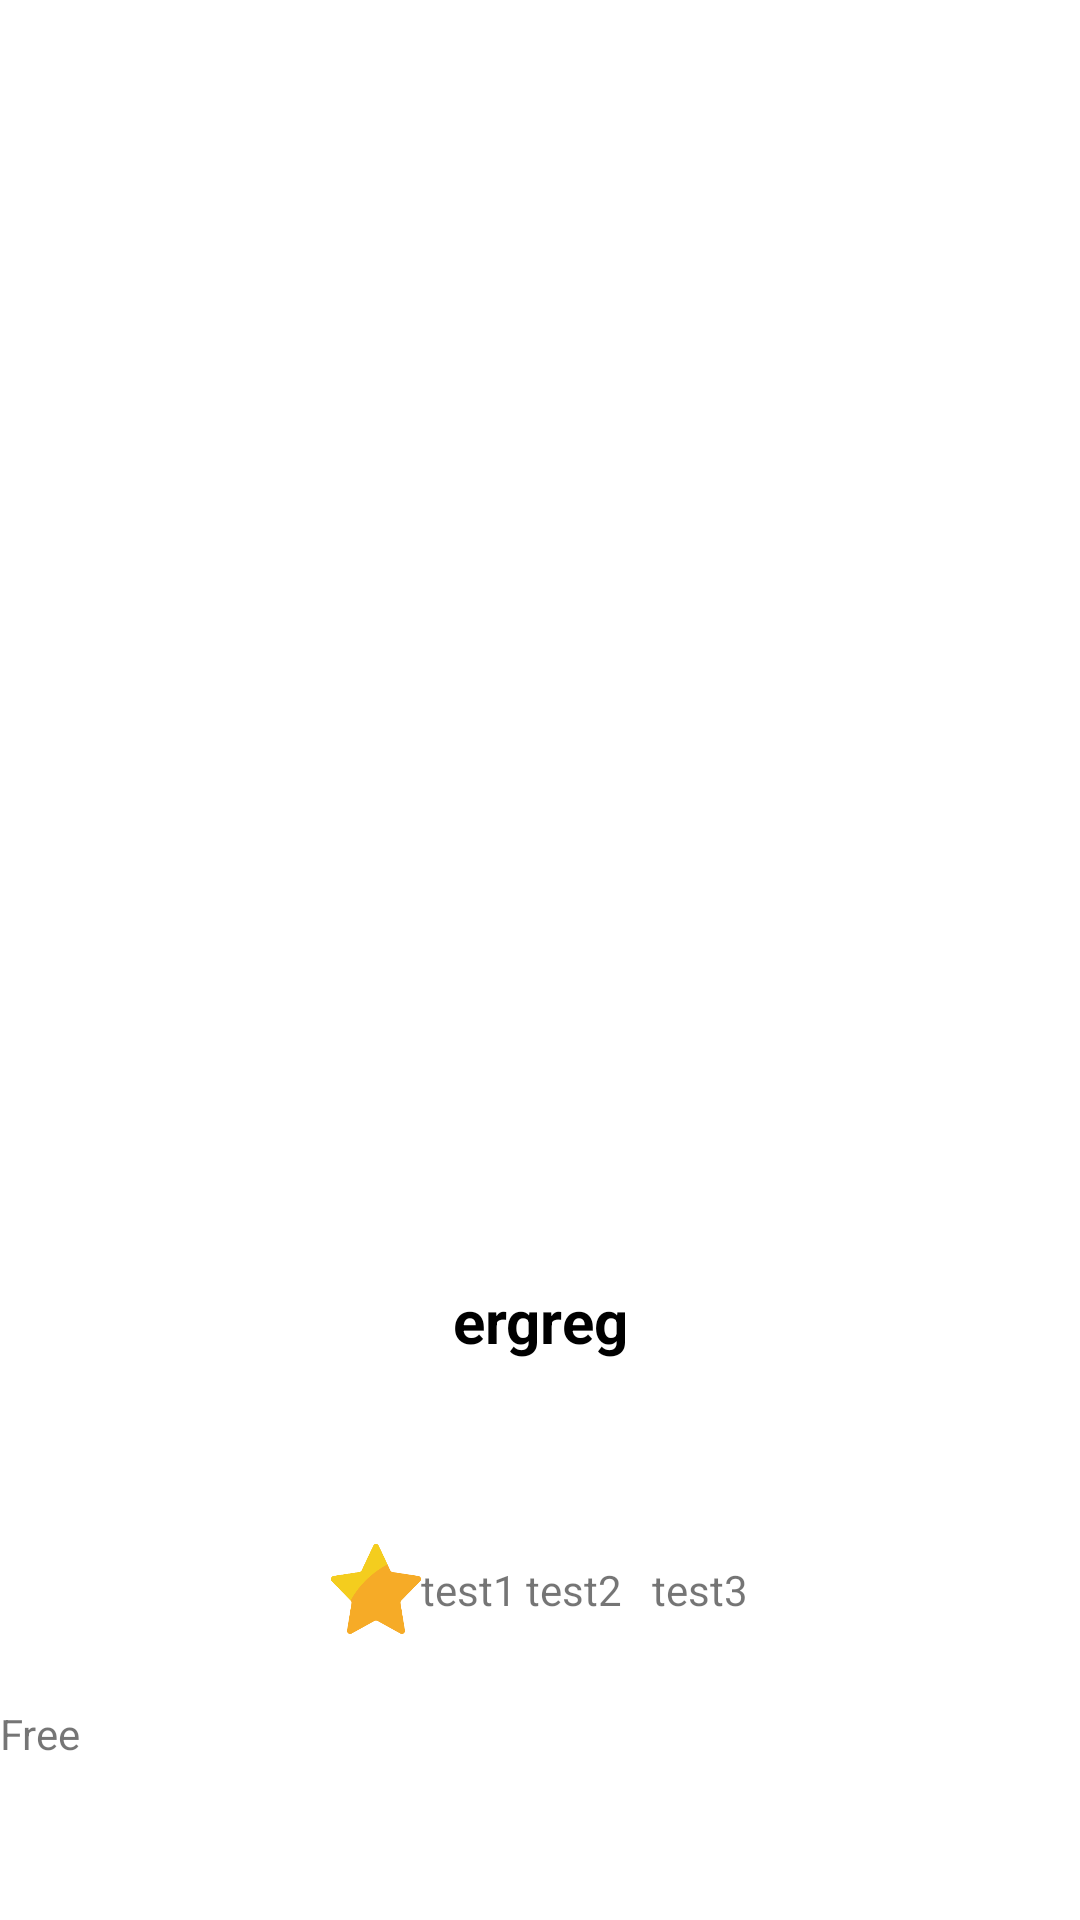

Icon click points for this 1080x1920 phone screenshot, format [x,y]:
star shape: [376,1589]
